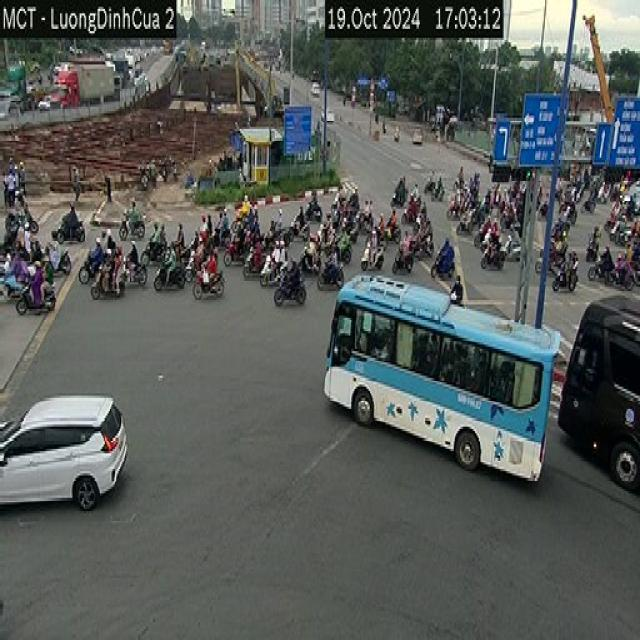bus: (320, 264, 564, 503), (553, 291, 640, 495)
car: (0, 384, 136, 520)
